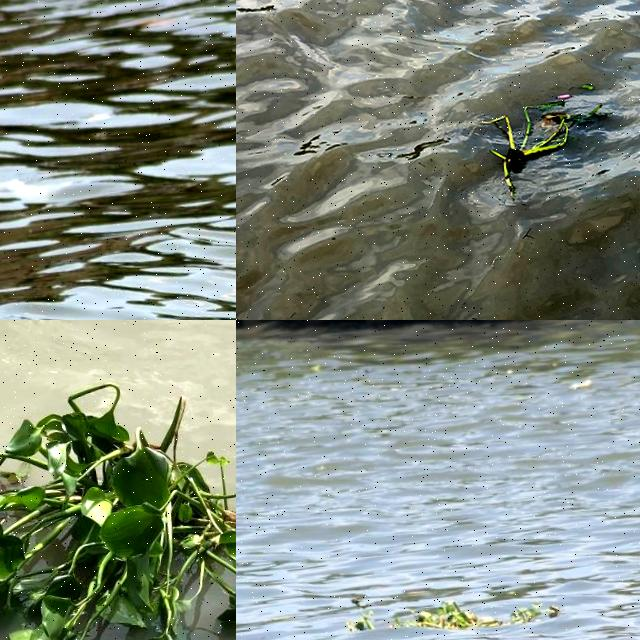water-hyacinth: (1, 359, 237, 640), (350, 583, 549, 640)
